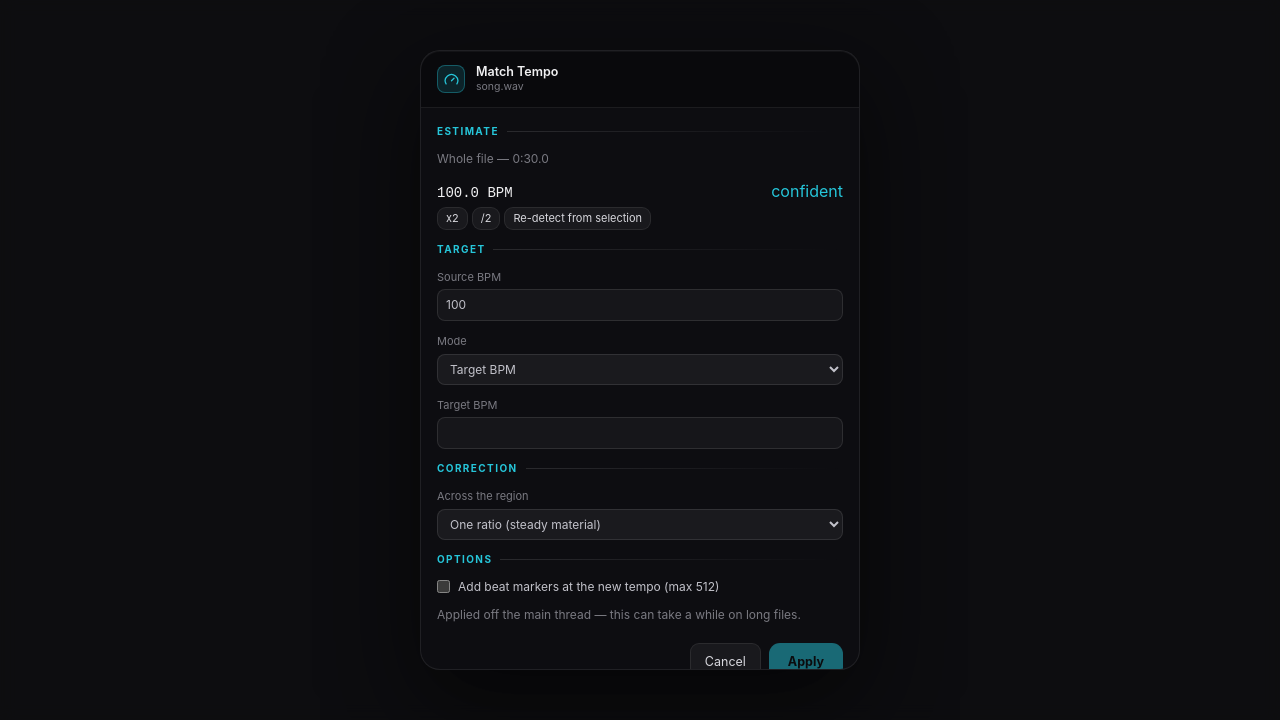
Test: TempoDialog › 6. an out-of-range target disables Apply and shows the red message with the computed BPM range
In the number field with test id "tempo-target": (640, 433) [437, 417, 843, 449], type "500"
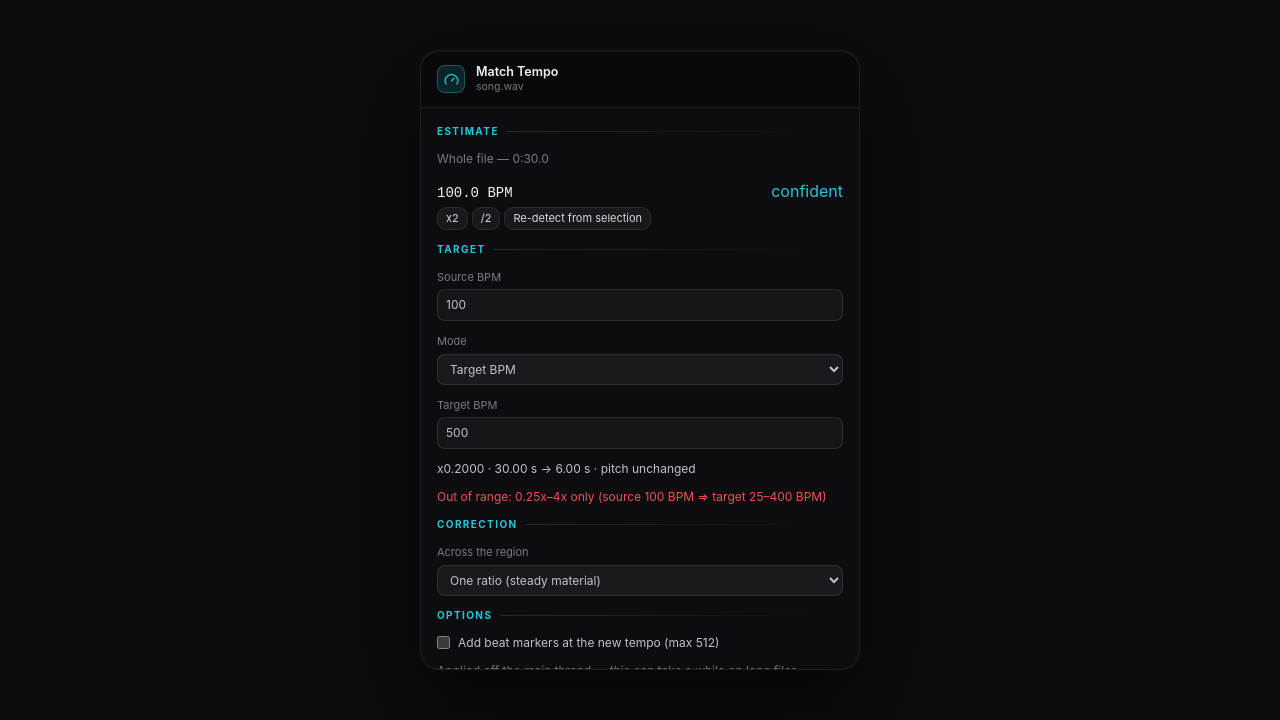
Expected: the text with test id "tempo-quality" shows "Out of range", [437, 489, 826, 504]
Expected: the text with test id "tempo-quality" shows "25", [437, 489, 843, 505]
Expected: the text with test id "tempo-quality" shows "400", [437, 489, 826, 504]
